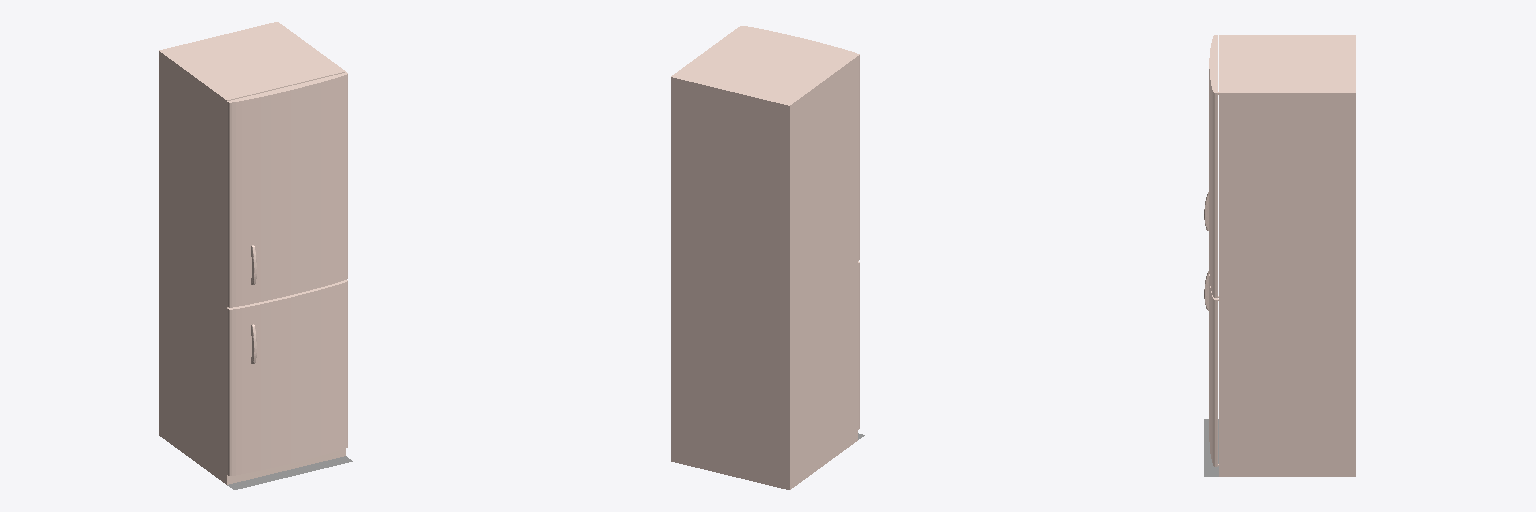
File: Nevera.obj
3 views of the same model, side by side, from view 1: azimuth 30°, elevation 25°; view 2: azimuth 150°, elevation 25°; view 3: azimuth 270°, elevation 25° (orthographic).
Visible parts, largest first — view 1: Corps_2, sweethome3d_opening_on_hinge_1_door_3_6, sweethome3d_opening_on_hinge_2_door_3_10, ground_1; view 2: Corps_2; view 3: Corps_2, sweethome3d_opening_on_hinge_1_door_3_6, sweethome3d_opening_on_hinge_2_door_3_10.
Boxes of the visible parts, box(x1,y1,x2,y2) form: Corps_2: box(159, 22, 345, 484); sweethome3d_opening_on_hinge_1_door_3_6: box(227, 74, 347, 307); sweethome3d_opening_on_hinge_2_door_3_10: box(227, 281, 347, 475); ground_1: box(227, 456, 352, 489); Corps_2: box(671, 27, 857, 489); Corps_2: box(1219, 35, 1355, 476); sweethome3d_opening_on_hinge_1_door_3_6: box(1209, 69, 1217, 297); sweethome3d_opening_on_hinge_2_door_3_10: box(1209, 276, 1217, 466).
Bounding box in the file's own units: 60 × 185 × 66.